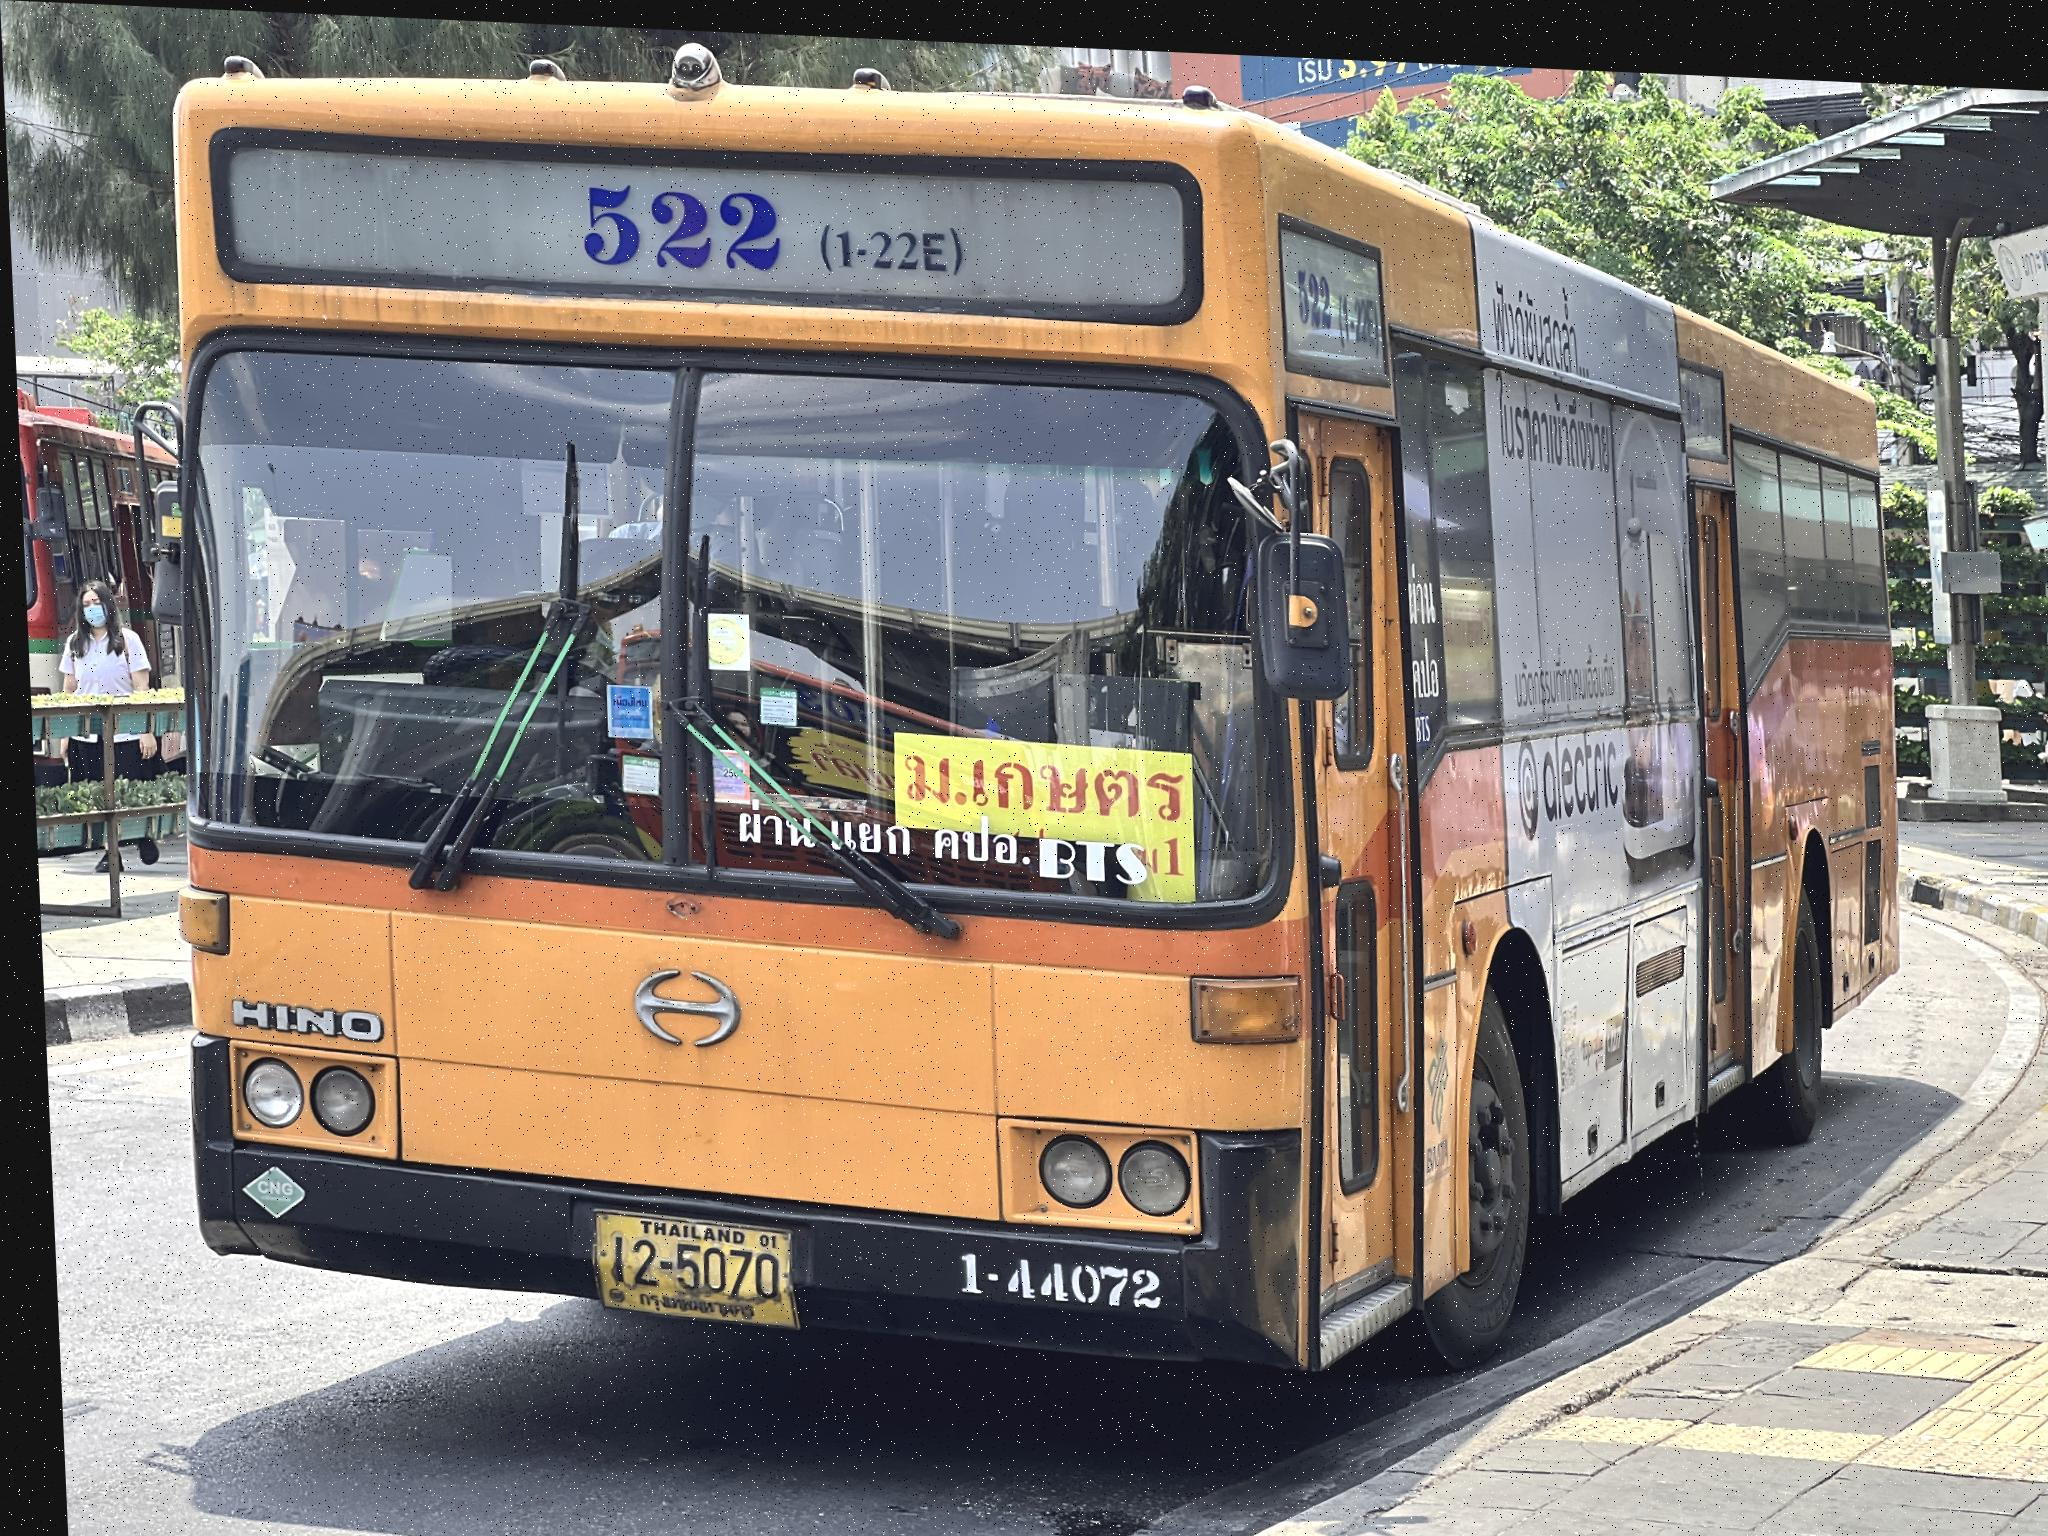BMTA-bus: (163, 44, 1904, 1370)
Bus Line Number: (542, 160, 974, 290)
Bus Side Number: (948, 1223, 1163, 1313)
Destination Sign: (887, 724, 1190, 894)
